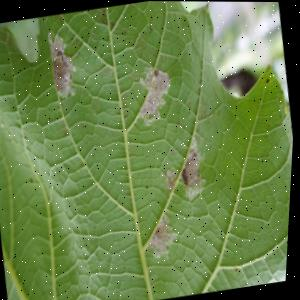Folha: (0, 0, 300, 300)
Fungo: (134, 134, 222, 262), (131, 60, 178, 128), (44, 27, 82, 100), (174, 135, 213, 201), (145, 209, 185, 261), (150, 230, 173, 261), (184, 175, 210, 200), (163, 165, 180, 190)
